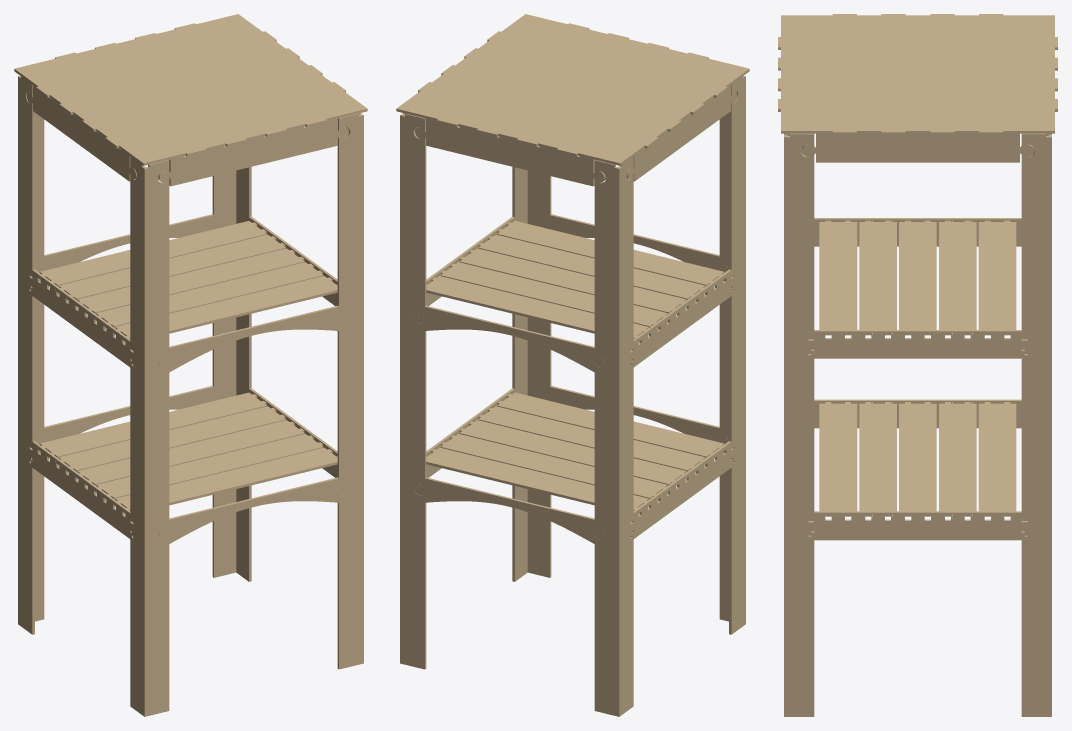
The model's file is driller-v365-design-only.glb.
3 renders of one model, left to right at view 1: azimuth 30°, elevation 25°; view 2: azimuth 150°, elevation 25°; view 3: azimuth 270°, elevation 25°, orthographic. The views are drawn at different scales.
Visible parts, largest first — view 1: TP1, A_FRONT_RIGHT, A_FRONT_LEFT, B_BACK_LEFT, B_FRONT_LEFT, A_BACK_LEFT, PERIM_FRONT, A_BACK_RIGHT, SLAT_1_1, SLAT_2_1, SLAT_1_5, SLAT_1_3 (+17 smaller); view 2: TP1, A_BACK_RIGHT, A_BACK_LEFT, B_FRONT_LEFT, B_BACK_LEFT, A_FRONT_LEFT, PERIM_BACK, A_FRONT_RIGHT, SLAT_1_5, SLAT_2_5, SLAT_1_1, SLAT_1_3 (+17 smaller); view 3: TP1, B_FRONT_RIGHT, B_BACK_RIGHT, PERIM_RIGHT, LS_RIGHT_1, LS_RIGHT_2, SLAT_1_1, SLAT_2_1, SLAT_2_5, SLAT_1_5, SLAT_1_2, SLAT_1_3 (+8 smaller).
Part boxes in pixels (bbox=[...]): TP1: bbox=[14, 14, 367, 165]; A_FRONT_RIGHT: bbox=[337, 113, 363, 669]; A_FRONT_LEFT: bbox=[143, 160, 169, 716]; B_BACK_LEFT: bbox=[18, 76, 34, 634]; B_FRONT_LEFT: bbox=[130, 156, 146, 715]; A_BACK_LEFT: bbox=[18, 76, 44, 624]; PERIM_FRONT: bbox=[158, 118, 348, 186]; A_BACK_RIGHT: bbox=[212, 170, 236, 577]; SLAT_1_1: bbox=[112, 447, 337, 513]; SLAT_2_1: bbox=[112, 276, 337, 341]; SLAT_1_5: bbox=[37, 392, 267, 458]; SLAT_1_3: bbox=[74, 420, 304, 485]; TP1: bbox=[396, 14, 749, 165]; A_BACK_RIGHT: bbox=[400, 113, 426, 669]; A_BACK_LEFT: bbox=[594, 160, 620, 716]; B_FRONT_LEFT: bbox=[729, 76, 745, 634]; B_BACK_LEFT: bbox=[617, 156, 633, 715]; A_FRONT_LEFT: bbox=[719, 76, 745, 624]; PERIM_BACK: bbox=[415, 118, 605, 186]; A_FRONT_RIGHT: bbox=[527, 170, 551, 577]; SLAT_1_5: bbox=[426, 447, 651, 513]; SLAT_2_5: bbox=[426, 276, 651, 341]; SLAT_1_1: bbox=[496, 392, 726, 458]; SLAT_1_3: bbox=[459, 420, 689, 485]; TP1: bbox=[778, 14, 1057, 134]; B_FRONT_RIGHT: bbox=[784, 133, 814, 716]; B_BACK_RIGHT: bbox=[1021, 133, 1051, 716]; PERIM_RIGHT: bbox=[802, 133, 1033, 162]; LS_RIGHT_1: bbox=[808, 511, 1027, 540]; LS_RIGHT_2: bbox=[808, 330, 1027, 358]; SLAT_1_1: bbox=[819, 402, 857, 516]; SLAT_2_1: bbox=[819, 220, 857, 335]; SLAT_2_5: bbox=[978, 220, 1016, 335]; SLAT_1_5: bbox=[978, 402, 1016, 516]; SLAT_1_2: bbox=[859, 402, 896, 516]; SLAT_1_3: bbox=[899, 402, 936, 516].
Size of the model in its own units: 0.37 by 0.857 by 0.37.
